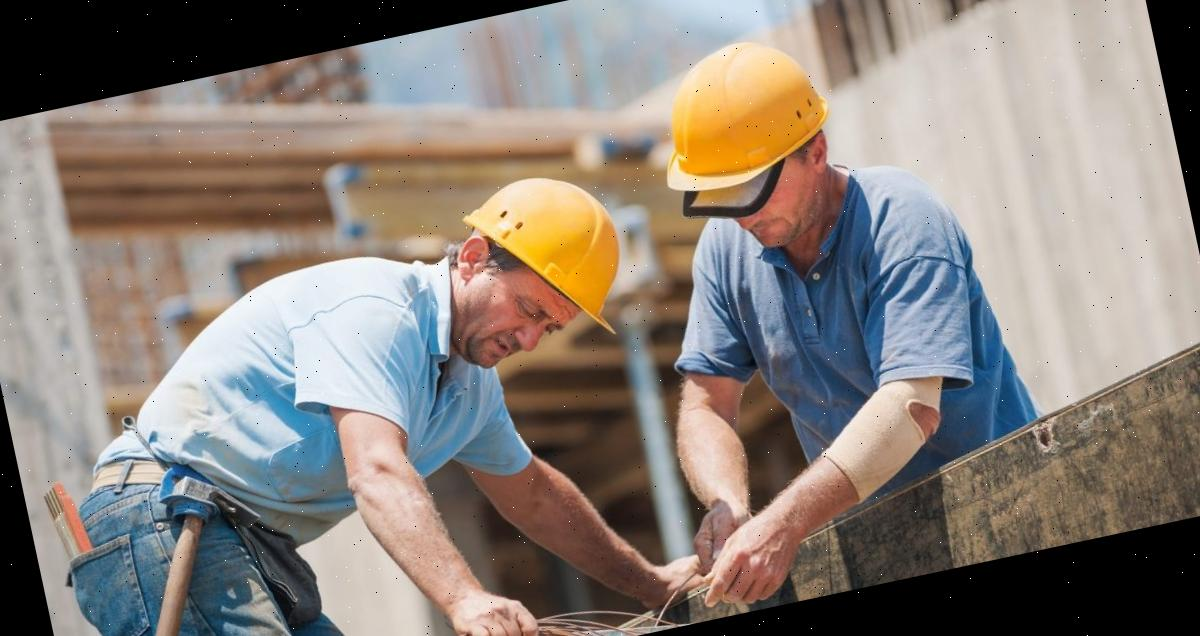helmet: (636, 20, 852, 201), (456, 162, 642, 366)
no_wear: (96, 240, 494, 561), (672, 190, 1014, 516)
